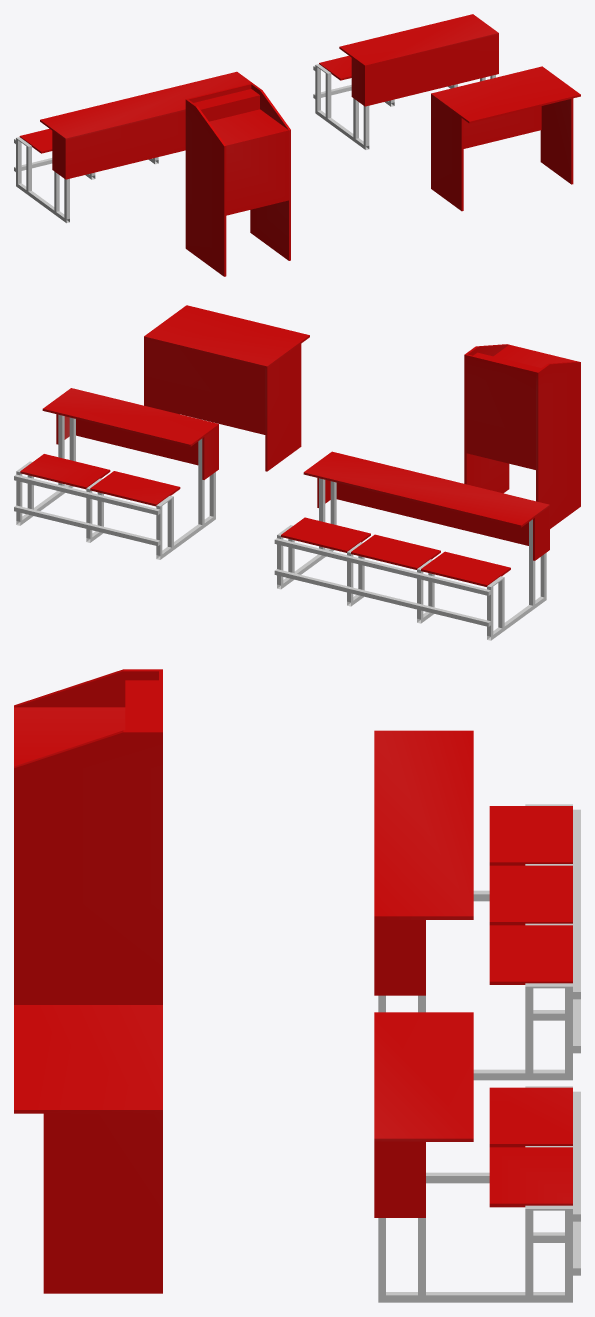
Rendered from Desk.fbx.
3 renders of one model, top to bottom at view 1: azimuth 30°, elevation 25°; view 2: azimuth 150°, elevation 25°; view 3: azimuth 270°, elevation 25°, orthographic. The views are drawn at different scales.
Visible parts, largest first — view 1: Table_Big, Desk_Big, Table, Desk; view 2: Desk_Big, Table, Desk, Table_Big; view 3: Table_Big, Desk_Big, Table, Desk.
Boxes of the visible parts, box(x1,y1,x2,y2) form: Table_Big: box(185, 83, 290, 276); Desk_Big: box(14, 71, 251, 223); Table: box(431, 66, 580, 211); Desk: box(313, 14, 498, 149); Desk_Big: box(274, 451, 549, 640); Table: box(144, 305, 309, 471); Desk: box(14, 388, 218, 559); Table_Big: box(464, 344, 580, 528); Table_Big: box(14, 669, 162, 1004); Desk_Big: box(374, 730, 580, 1080); Table: box(14, 1005, 162, 1293); Desk: box(374, 1012, 580, 1302).
Size of the model in its own units: 485 by 160 by 285.
